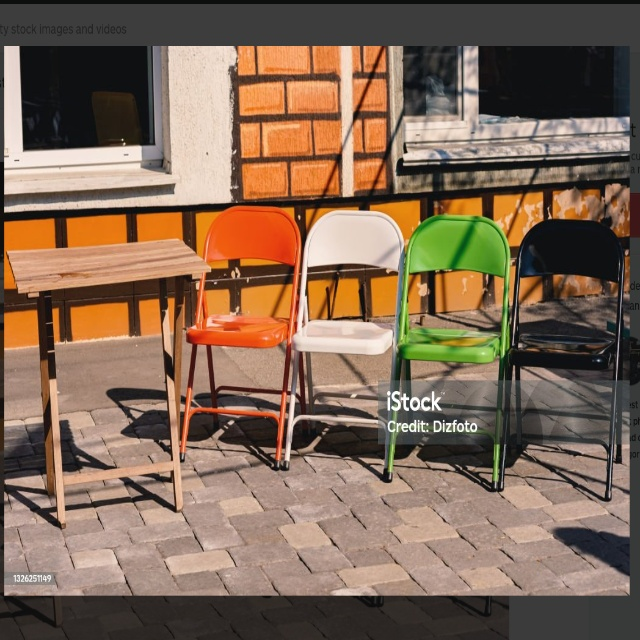obstacle: (7, 240, 209, 518), (503, 222, 623, 506), (392, 208, 513, 489), (293, 203, 404, 487), (189, 200, 293, 467)
